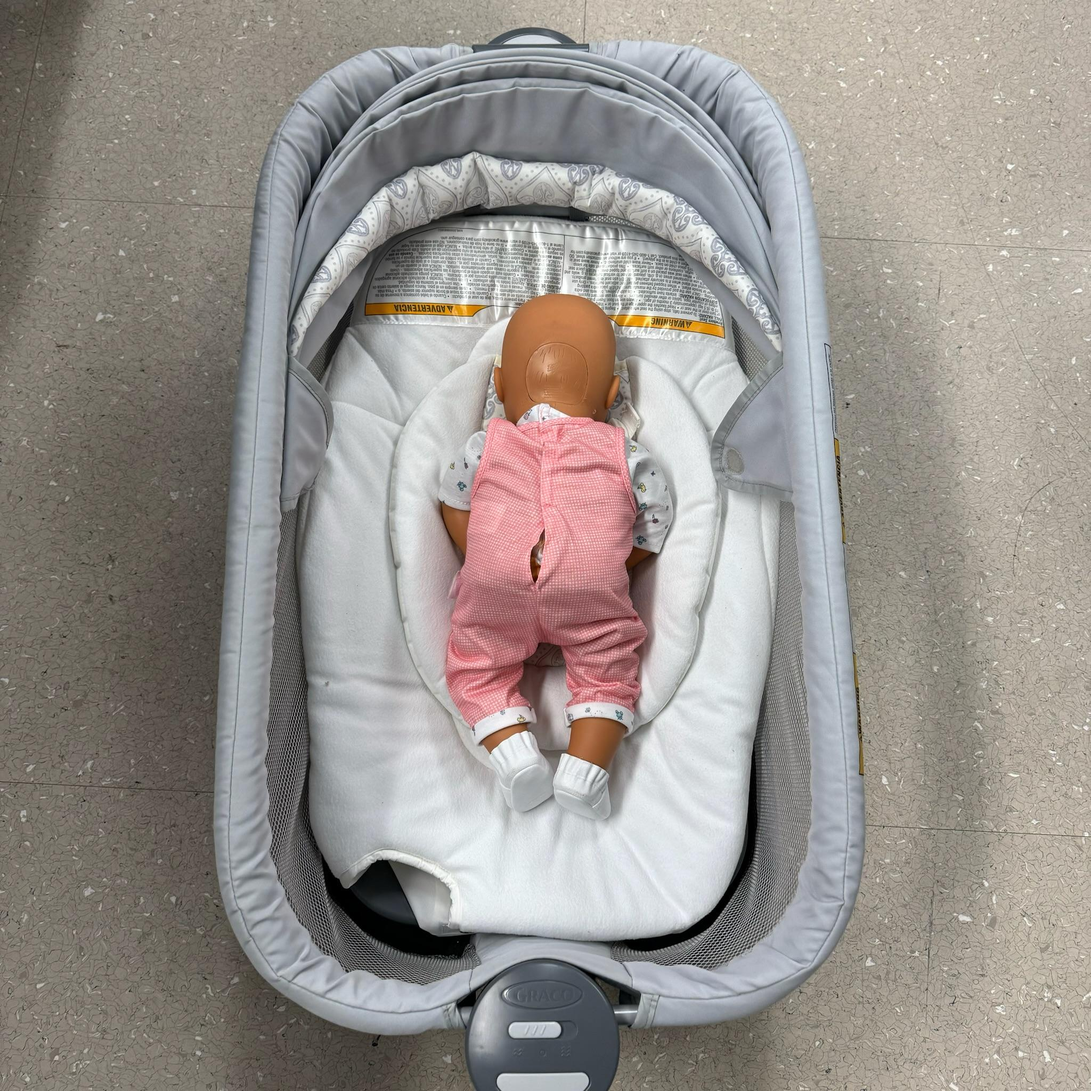baby: (424, 274, 688, 813)
